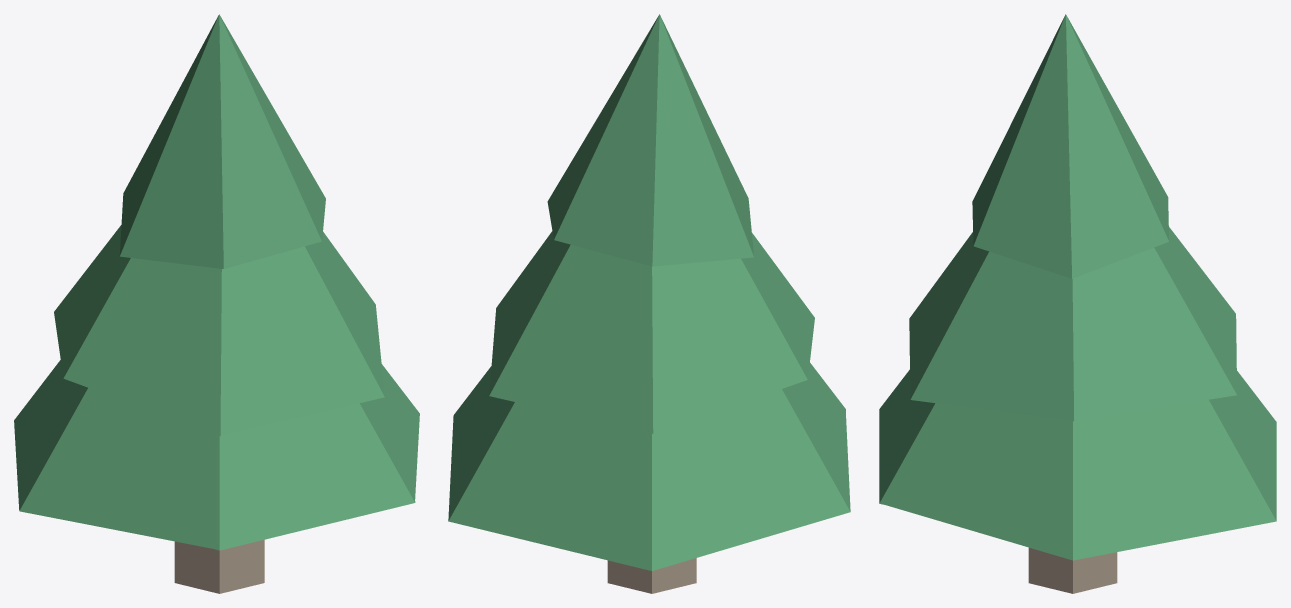
The model's file is Hilly_Prop_Tree_Pine_3.glb.
The picture shows the model from 3 angles, left to right: view 1: azimuth 30°, elevation 25°; view 2: azimuth 150°, elevation 25°; view 3: azimuth 270°, elevation 25°; orthographic projection.
Parts seen in each view (by area): view 1: Hilly_Prop_Tree_Pine_3; view 2: Hilly_Prop_Tree_Pine_3; view 3: Hilly_Prop_Tree_Pine_3.
Boxes of the visible parts, left/top/right/bottom form: Hilly_Prop_Tree_Pine_3: left=14, top=14, right=419, bottom=593; Hilly_Prop_Tree_Pine_3: left=448, top=14, right=850, bottom=593; Hilly_Prop_Tree_Pine_3: left=879, top=14, right=1276, bottom=593.
Size of the model in its own units: 2.49 by 3.33 by 2.16.
